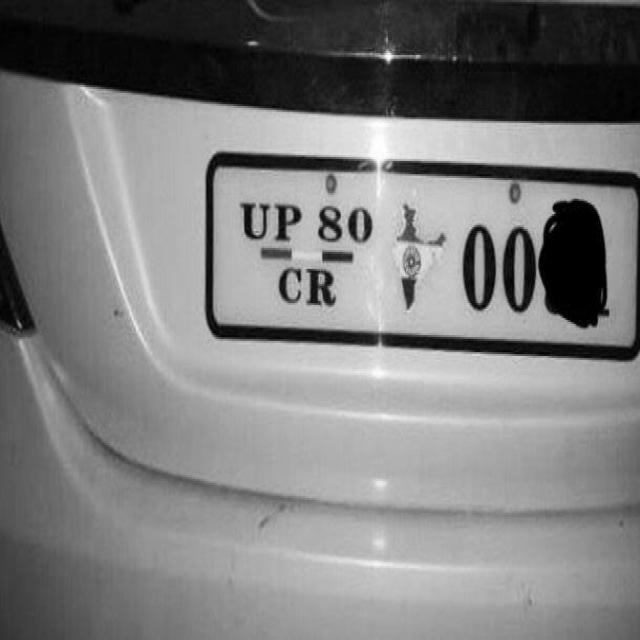license-plate: (204, 127, 637, 365)
